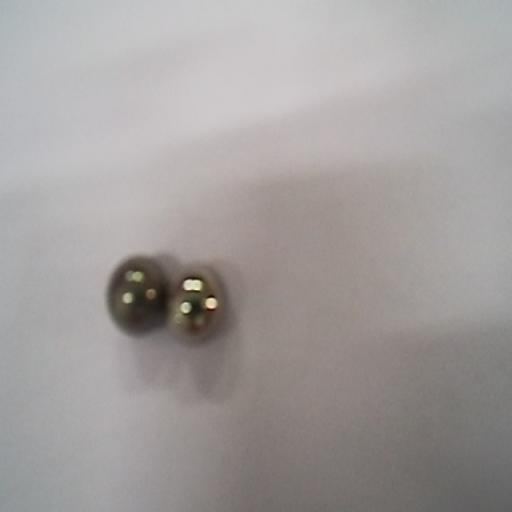steel-ball: (107, 252, 166, 338), (167, 263, 228, 338)
